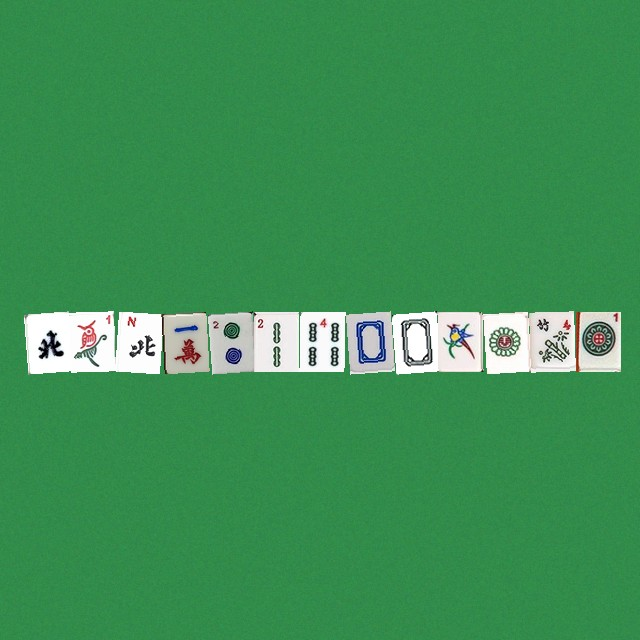tile: (23, 311, 68, 371), (69, 311, 114, 371), (115, 311, 160, 371), (161, 311, 206, 371), (207, 311, 252, 371), (253, 311, 298, 371), (299, 311, 344, 371), (345, 311, 390, 371), (391, 311, 436, 371), (437, 311, 482, 371), (483, 311, 528, 371), (529, 311, 574, 371), (575, 311, 620, 371)
